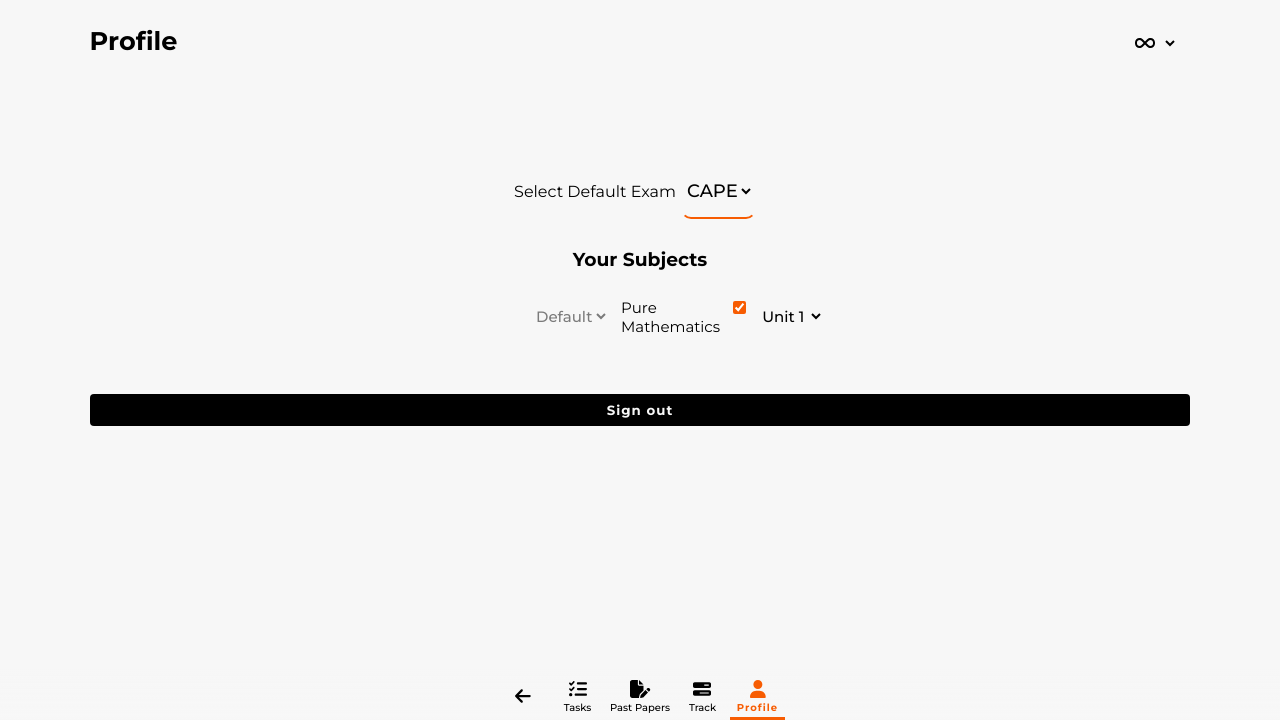
Test: Profile (7, 9, 10) › a failed unit save says so and puts the choice back
Step 1. Select "Unit 2" in the dropdown named "Pure Mathematics unit" → (791, 317), box [756,301,826,332]
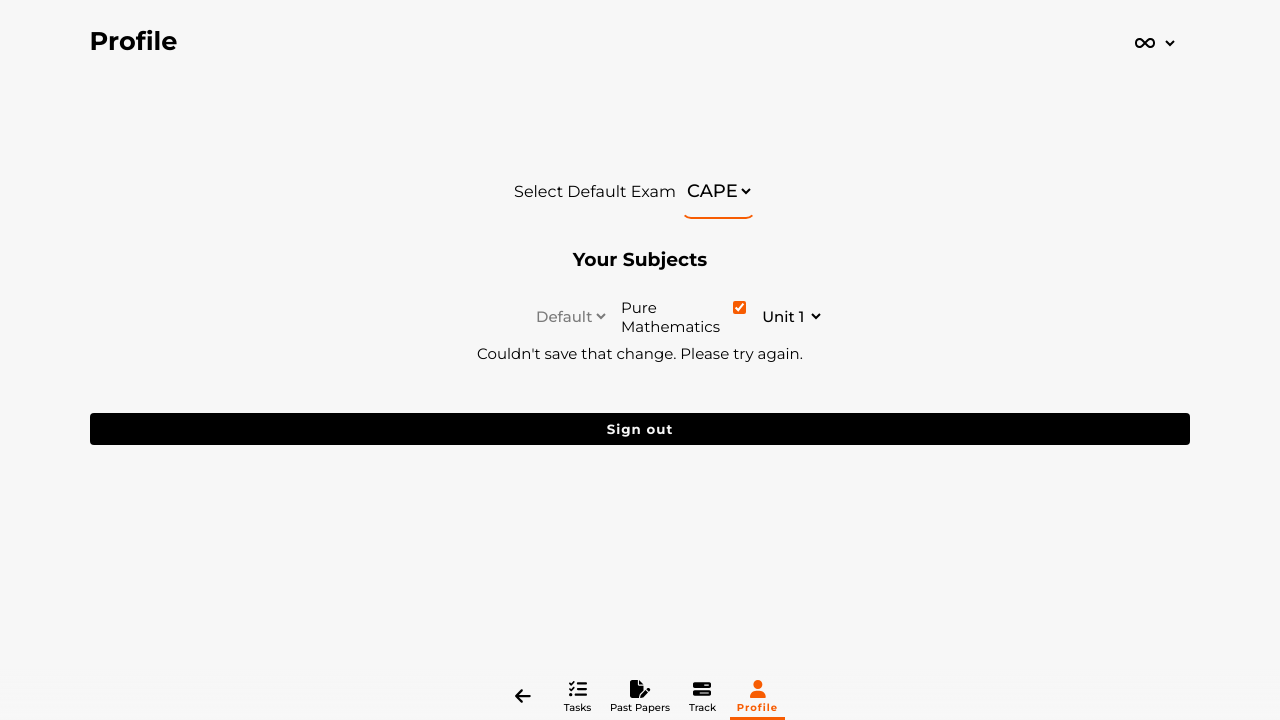
Expected: the message shows "Couldn't save that change", [477,344,803,363]
